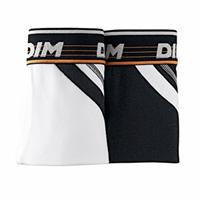mutande: (16, 27, 108, 165), (103, 28, 178, 162)
